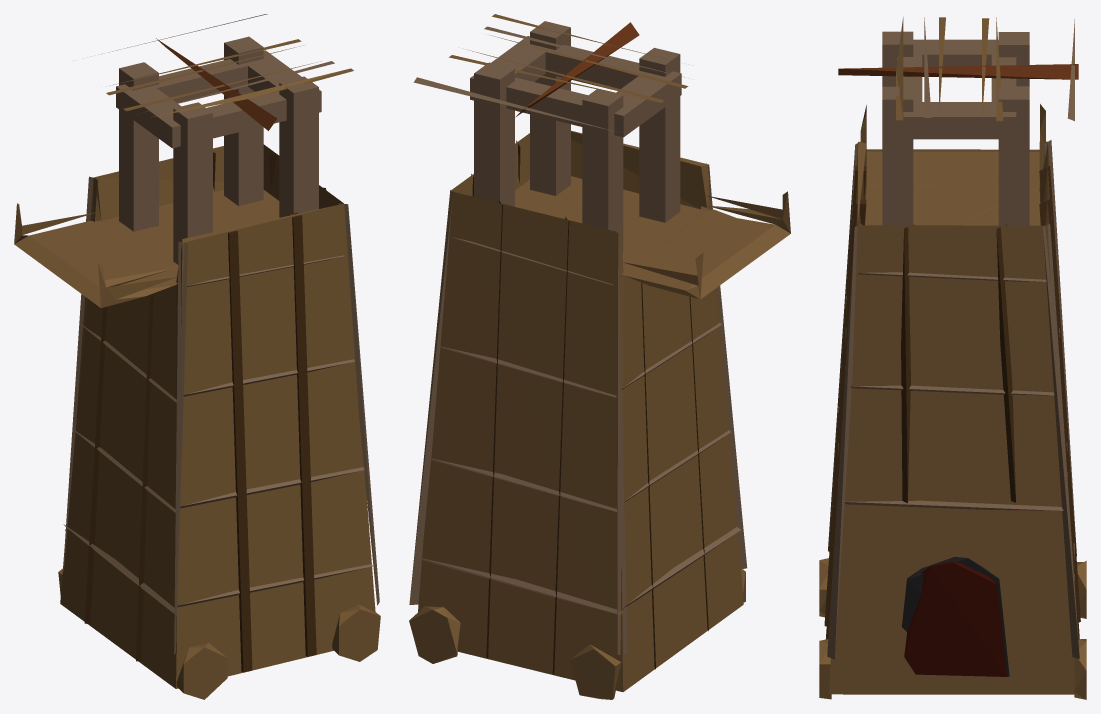
Rendered from siege-tower.lod2.glb.
3 renders of one model, left to right at view 1: azimuth 30°, elevation 25°; view 2: azimuth 150°, elevation 25°; view 3: azimuth 270°, elevation 25°, orthographic. The views are drawn at different scales.
Visible parts, largest first — view 1: Object_2; view 2: Object_2; view 3: Object_2.
Part boxes in pixels (bbox=[...]): Object_2: bbox=[14, 14, 380, 699]; Object_2: bbox=[409, 14, 790, 699]; Object_2: bbox=[819, 17, 1086, 699].
Size of the model in its own units: 7.6 by 14.97 by 6.13.
